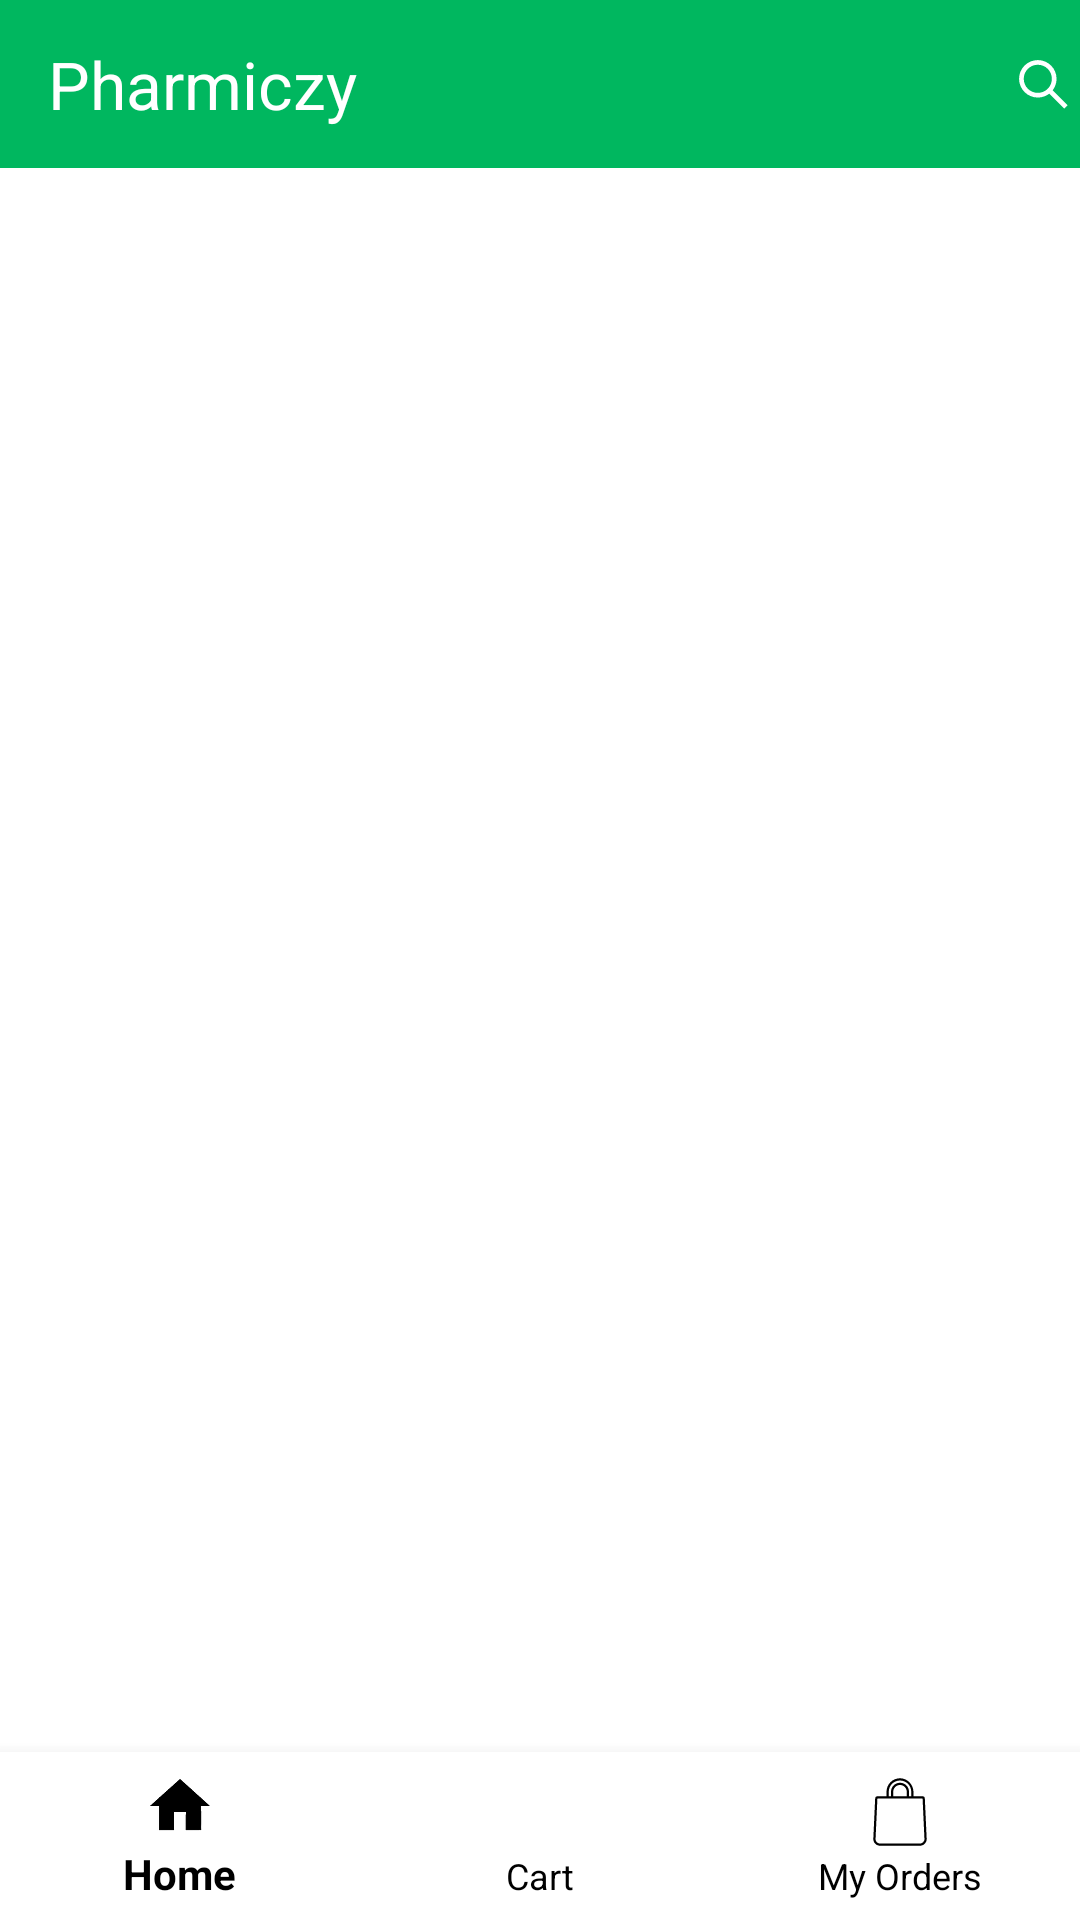

Locate icon controls on the screen. Image size 1080×1920, boxes as {"x1": x1, "y1": y1, "x2": x2, "y2": y2}.
searchb: {"x1": 1019, "y1": 60, "x2": 1068, "y2": 109}
